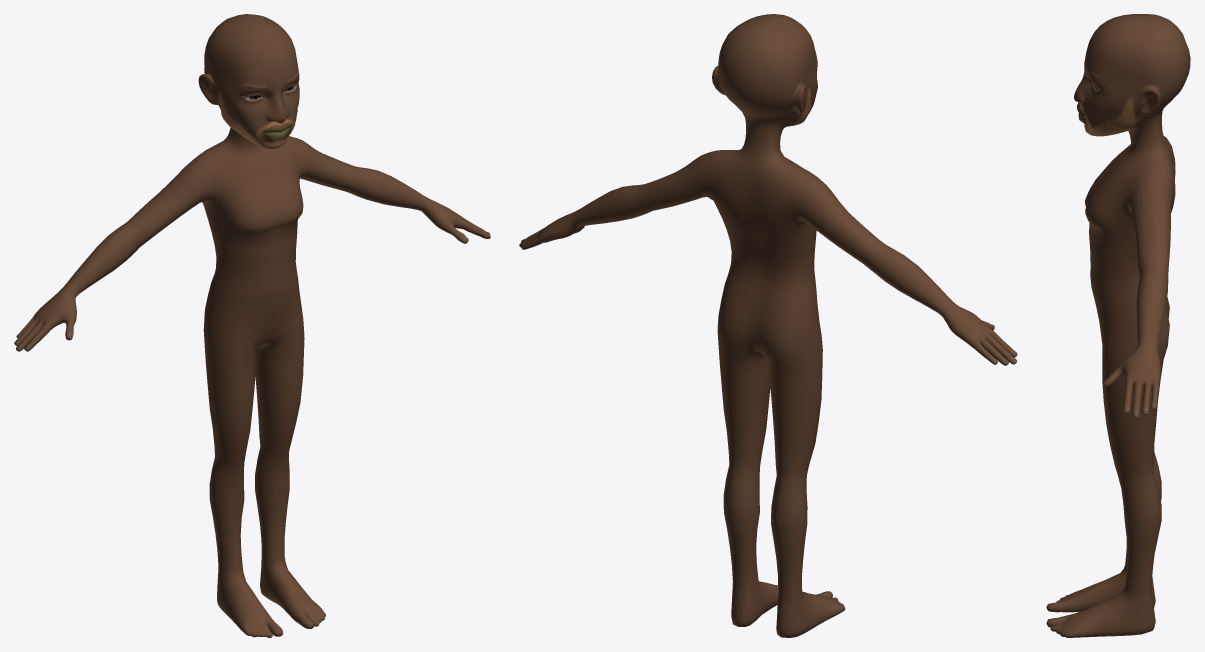
The model's file is frame_0095.glb.
3 views of the same model, side by side, from view 1: azimuth 30°, elevation 25°; view 2: azimuth 150°, elevation 25°; view 3: azimuth 270°, elevation 25° (orthographic). The views are drawn at different scales.
Visible parts, largest first — view 1: frame_0095_head_geo; view 2: frame_0095_head_geo; view 3: frame_0095_head_geo.
Part boxes in pixels (x1,y1,x2,y2): frame_0095_head_geo: (14,14,490,637); frame_0095_head_geo: (519,14,1017,637); frame_0095_head_geo: (1046,14,1190,637).
Size of the model in its own units: 1.28 by 1.5 by 0.3253.
3 materials, 3 textured.
